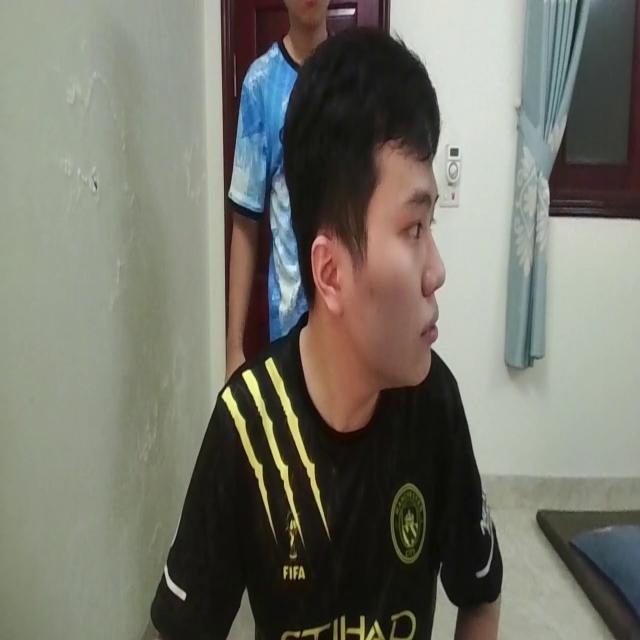extra_person: (221, 0, 306, 362)
student: (140, 26, 504, 640)
